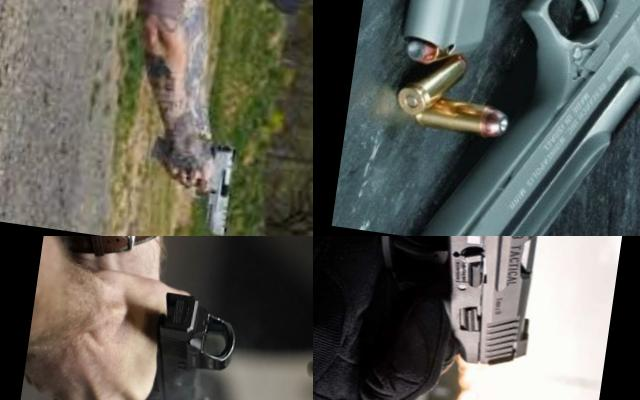handgun: (389, 0, 640, 236), (347, 236, 570, 375), (99, 281, 245, 400), (134, 128, 241, 236)
